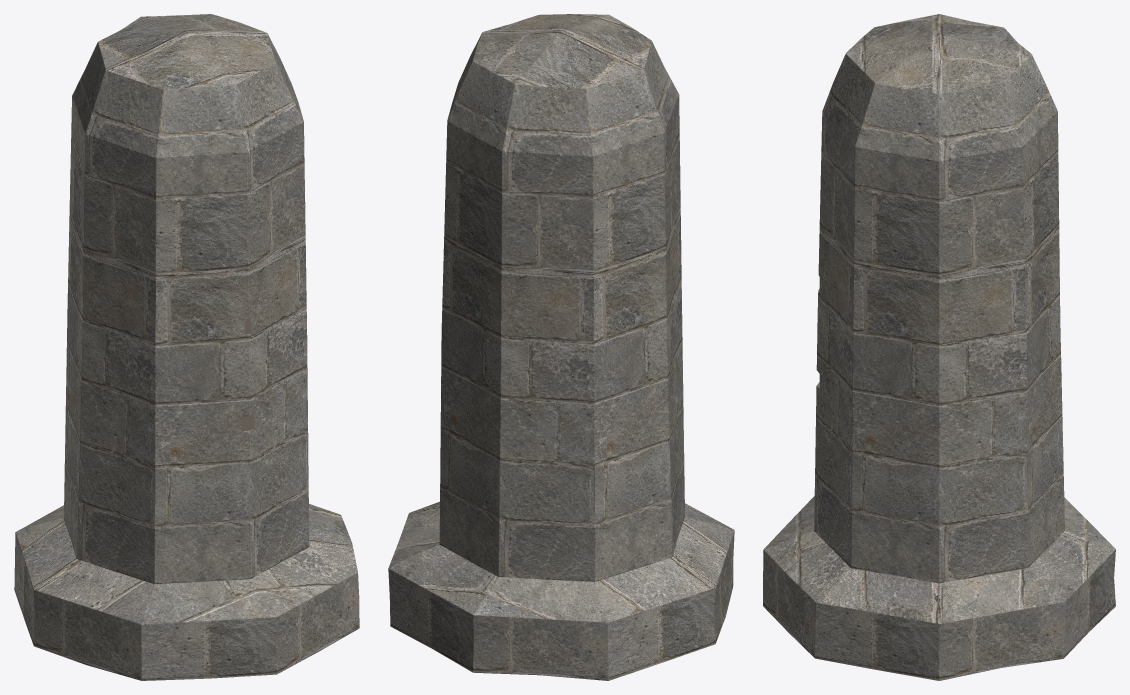
The model's file is road-marker-v01.glb.
The picture shows the model from 3 angles, left to right: view 1: azimuth 30°, elevation 25°; view 2: azimuth 150°, elevation 25°; view 3: azimuth 270°, elevation 25°; orthographic projection.
Visible parts, largest first — view 1: marker; view 2: marker; view 3: marker.
Boxes of the visible parts, left/top/right/bottom form: marker: left=14, top=14, right=359, bottom=680; marker: left=388, top=14, right=734, bottom=680; marker: left=763, top=14, right=1115, bottom=680.
Size of the model in its own units: 0.8386 by 1.5 by 0.8403.
Materials: 1 (1 with a texture image).
